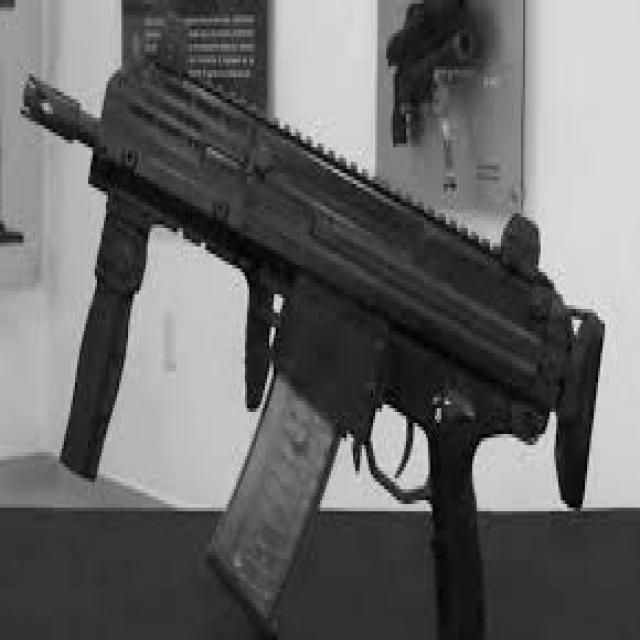semi: (20, 14, 604, 640)
